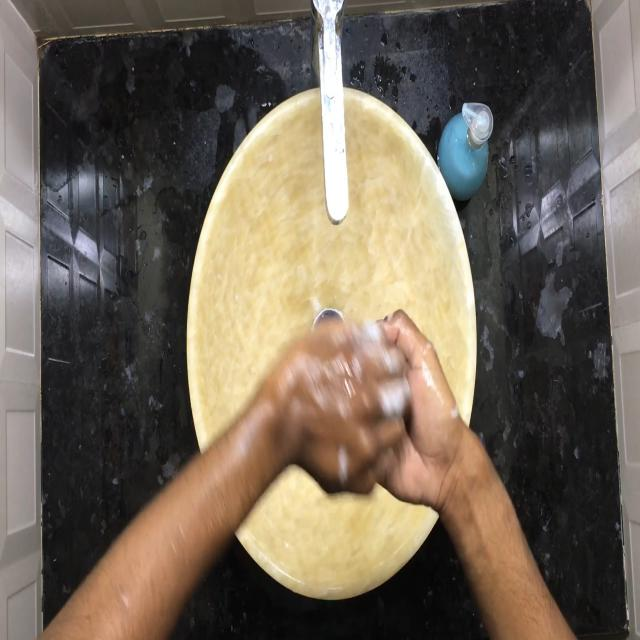step_4: (280, 290, 452, 516)
